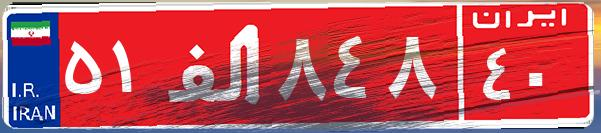0: (525, 38, 570, 115)
1: (110, 28, 158, 105)
4: (330, 28, 385, 110), (475, 38, 525, 113)
5: (57, 26, 110, 107)
8: (385, 28, 445, 110), (273, 28, 330, 110)
الف: (158, 15, 273, 115)
